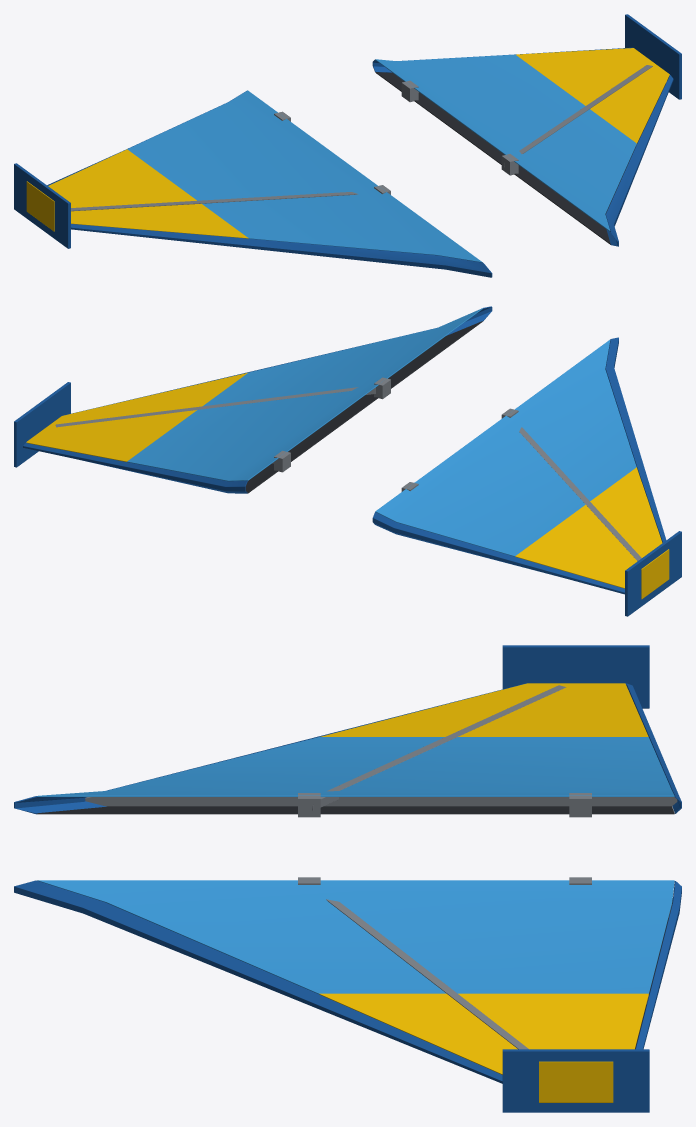
Rendered from strix_wing_longspan.fbx.
The picture shows the model from 3 angles, top to bottom: view 1: azimuth 30°, elevation 25°; view 2: azimuth 150°, elevation 25°; view 3: azimuth 270°, elevation 25°; orthographic projection. The views are drawn at different scales.
Parts seen in each view (by area): view 1: Wing_Top_L.001, Wing_Top_R.001, Wing_LE_L.001, Wing_Longspan_Extra_L, Wing_Bottom_R.001, Wing_Longspan_Extra_R, Wing_LE_R.001, Wing_Structure_R.001, Wing_Structure_L.001; view 2: Wing_Top_L.001, Wing_Top_R.001, Wing_Longspan_Extra_L, Wing_Bottom_R.001, Wing_TE_L.001, Wing_TE_R.001, Wing_Longspan_Extra_R, Wing_Structure_R.001, Wing_LE_L.001, Wing_Structure_L.001, Wing_LE_R.001; view 3: Wing_Top_R.001, Wing_Top_L.001, Wing_Longspan_Extra_R, Wing_Structure_L.001, Wing_LE_R.001, Wing_Longspan_Extra_L, Wing_Bottom_L.001, Wing_Structure_R.001, Wing_LE_L.001, Wing_TE_R.001, Wing_TE_L.001.
Boxes of the visible parts, box(x1,y1,x2,y2) form: Wing_Top_L.001: box(48, 90, 482, 262); Wing_Top_R.001: box(375, 48, 669, 231); Wing_LE_L.001: box(71, 224, 492, 277); Wing_Longspan_Extra_L: box(14, 163, 70, 248); Wing_Bottom_R.001: box(375, 72, 667, 244); Wing_Longspan_Extra_R: box(625, 14, 681, 99); Wing_LE_R.001: box(605, 75, 673, 246); Wing_Structure_R.001: box(401, 65, 666, 175); Wing_Structure_L.001: box(71, 111, 390, 211); Wing_Top_L.001: box(375, 340, 662, 588); Wing_Top_R.001: box(26, 308, 482, 481); Wing_Longspan_Extra_L: box(625, 531, 681, 616); Wing_Bottom_R.001: box(245, 321, 482, 493); Wing_TE_L.001: box(372, 512, 624, 594); Wing_TE_R.001: box(23, 443, 247, 493); Wing_Longspan_Extra_R: box(14, 382, 70, 467); Wing_Structure_R.001: box(55, 377, 390, 472); Wing_LE_L.001: box(605, 337, 666, 542); Wing_Structure_L.001: box(401, 408, 641, 561); Wing_LE_R.001: box(63, 306, 492, 415); Wing_Top_R.001: box(37, 880, 674, 1074); Wing_Top_L.001: box(37, 683, 674, 796); Wing_Longspan_Extra_R: box(502, 1049, 649, 1112); Wing_Structure_L.001: box(85, 685, 677, 817); Wing_LE_R.001: box(14, 880, 502, 1083); Wing_Longspan_Extra_L: box(502, 645, 649, 708); Wing_Bottom_L.001: box(37, 806, 674, 814); Wing_Structure_R.001: box(298, 877, 671, 1049); Wing_LE_L.001: box(14, 683, 526, 814); Wing_TE_R.001: box(635, 881, 681, 1049); Wing_TE_L.001: box(626, 683, 681, 813).
Size of the model in its own units: 424 by 34.9 by 294.
